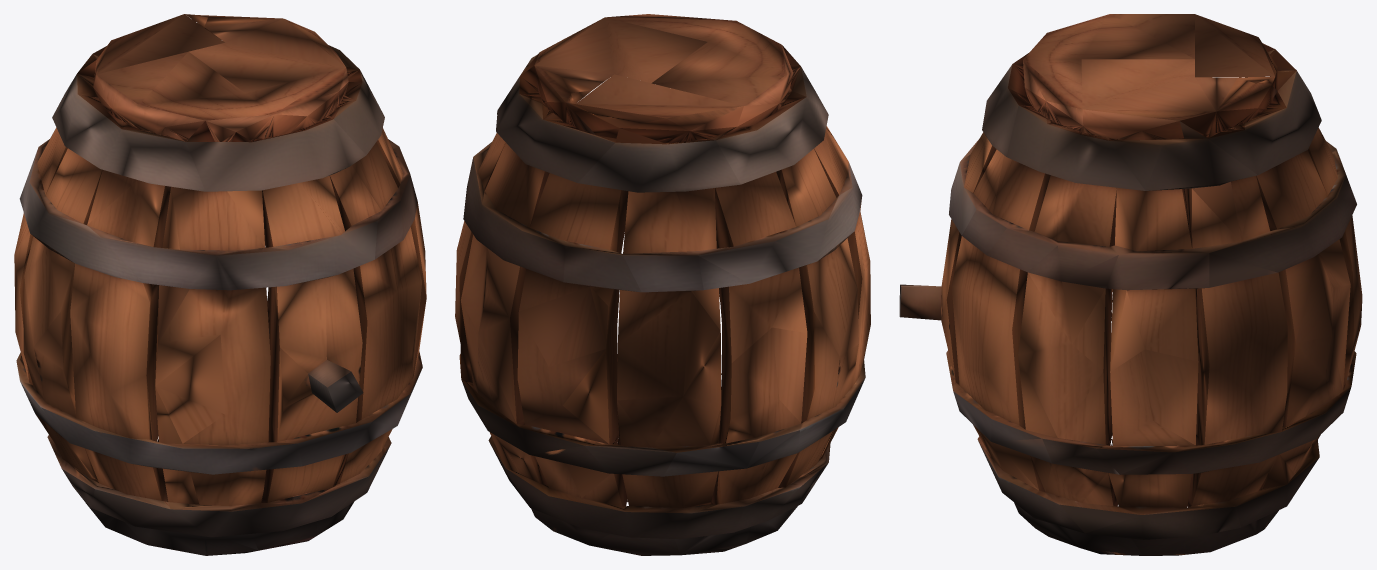
Rendered from barrel.glb.
3 renders of one model, left to right at view 1: azimuth 30°, elevation 25°; view 2: azimuth 150°, elevation 25°; view 3: azimuth 270°, elevation 25°, orthographic.
Parts seen in each view (by area): view 1: bdec_96lhqir6.glb; view 2: bdec_96lhqir6.glb; view 3: bdec_96lhqir6.glb.
Part boxes in pixels (x1,y1,x2,y2): bdec_96lhqir6.glb: [14, 14, 426, 555]; bdec_96lhqir6.glb: [455, 14, 870, 555]; bdec_96lhqir6.glb: [899, 14, 1362, 555].
Size of the model in its own units: 0.8433 by 0.9727 by 0.9291.
Materials: 1 (1 with a texture image).
